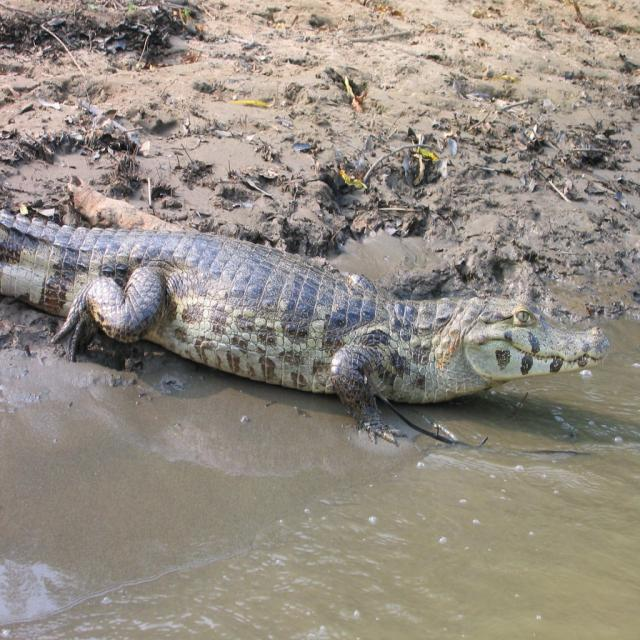crocodile: (0, 158, 625, 478)
